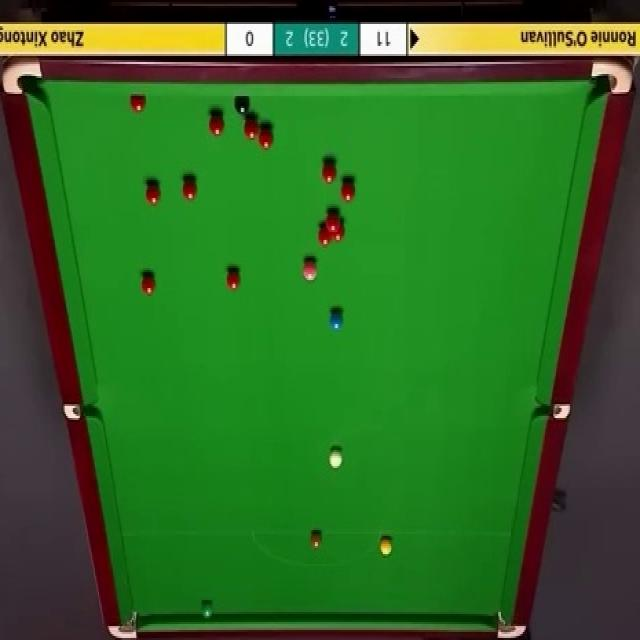black-ball: (233, 94, 251, 116)
blue-ball: (329, 307, 345, 332)
brown-ball: (310, 529, 324, 552)
green-ball: (200, 600, 215, 619)
pink-ball: (302, 258, 317, 286)
red-ball: (242, 112, 260, 143), (224, 265, 242, 293), (322, 154, 338, 182), (209, 111, 226, 137), (145, 181, 162, 207), (258, 125, 274, 151), (338, 179, 354, 204), (182, 177, 198, 201), (141, 272, 156, 297), (318, 222, 332, 246), (130, 94, 146, 114), (326, 210, 339, 230), (332, 222, 345, 242)
white-ball: (328, 442, 344, 468)
yellow-ball: (380, 537, 394, 557)
